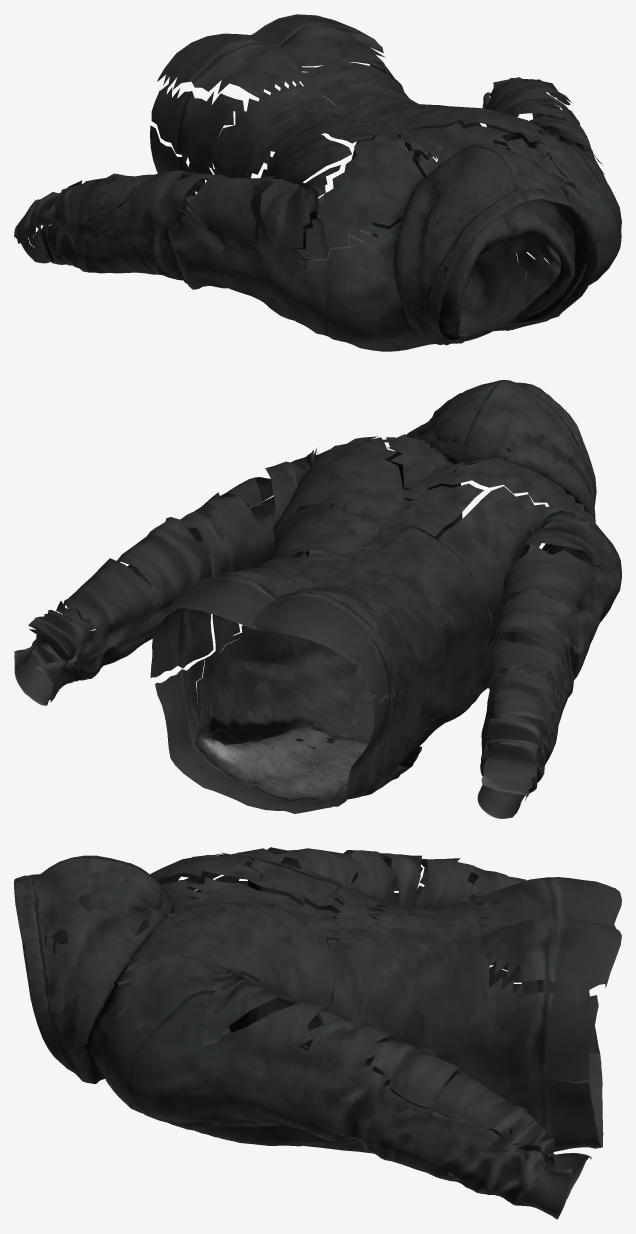
File: adult-base-01.mobile.glb
3 renders of one model, top to bottom at view 1: azimuth 30°, elevation 25°; view 2: azimuth 150°, elevation 25°; view 3: azimuth 270°, elevation 25°, orthographic. The views are drawn at different scales.
Visible parts, largest first — view 1: geometry_0; view 2: geometry_0; view 3: geometry_0.
Part boxes in pixels (bbox=[...]): geometry_0: bbox=[14, 14, 621, 351]; geometry_0: bbox=[14, 380, 621, 818]; geometry_0: bbox=[14, 847, 621, 1219].
Size of the model in its own units: 0.00848 by 0.00412 by 0.00802.
1 material, 1 textured.
